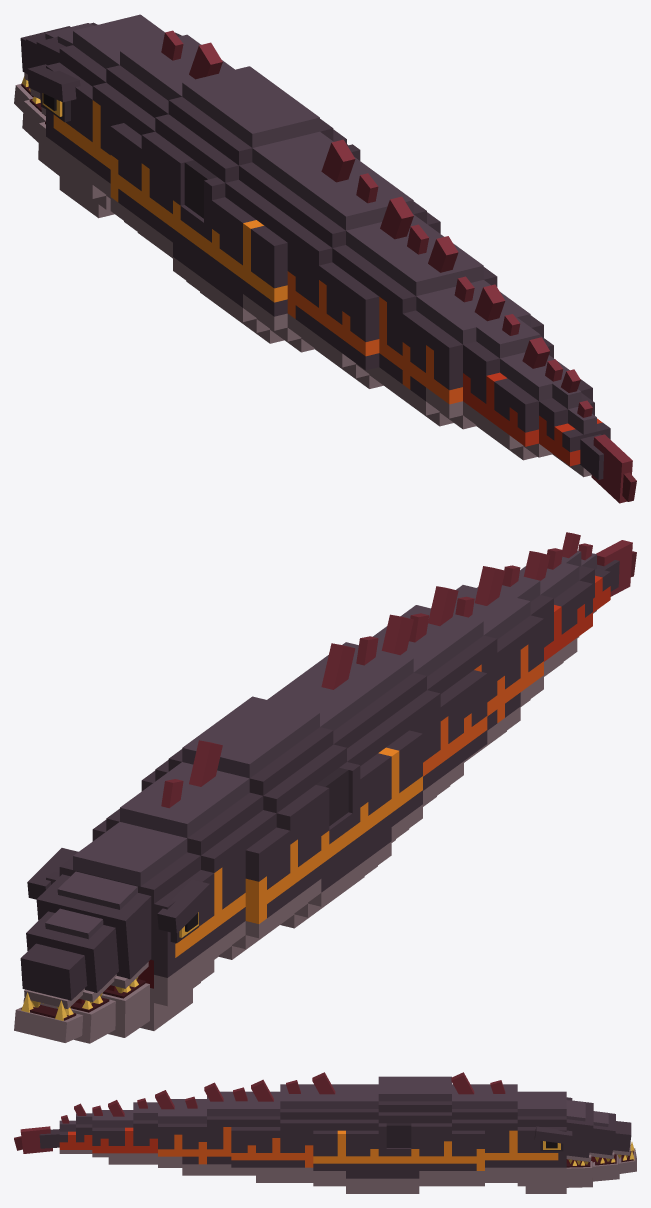
Rendered from BrimstoneEel.obj.
The picture shows the model from 3 angles, top to bottom: view 1: azimuth 30°, elevation 25°; view 2: azimuth 150°, elevation 25°; view 3: azimuth 270°, elevation 25°; orthographic projection. The views are drawn at different scales.
Parts seen in each view (by area): view 1: Head, S4, S6, S7, S5, S3, S2, S10, S1, S12, S8, S9 (+8 smaller); view 2: Head, S4, S2, S3, S1, S6, S5, S7, Jaw, S8, S9, S12 (+8 smaller); view 3: Head, S4, S3, S5, S2, S6, S7, S1, S8, S10, S9, S11 (+8 smaller).
Boxes of the visible parts, x1,y1,x2,y2 form: Head: (20, 14, 181, 218); S4: (173, 89, 360, 320); S6: (243, 139, 381, 352); S7: (287, 173, 440, 371); S5: (212, 131, 333, 343); S3: (141, 66, 280, 258); S2: (110, 42, 234, 254); S10: (379, 236, 497, 408); S1: (92, 30, 200, 198); S12: (426, 284, 543, 429); S8: (319, 196, 436, 388); S9: (342, 224, 459, 391); Head: (20, 822, 214, 1030); S4: (214, 696, 360, 928); S2: (151, 740, 290, 959); S3: (141, 725, 321, 936); S1: (92, 779, 245, 959); S6: (284, 643, 422, 842); S5: (267, 687, 391, 899); S7: (315, 636, 440, 805); Jaw: (14, 979, 149, 1043); S8: (377, 614, 463, 806); S9: (373, 613, 487, 761); S12: (455, 566, 543, 706); Head: (517, 1091, 631, 1193); S4: (378, 1076, 419, 1193); S3: (419, 1076, 451, 1186); S5: (346, 1084, 378, 1193); S2: (451, 1072, 484, 1186); S6: (312, 1072, 345, 1186); S7: (280, 1080, 313, 1182); S1: (485, 1080, 517, 1182); S8: (251, 1079, 280, 1182); S10: (204, 1082, 231, 1175); S9: (231, 1087, 255, 1175); S11: (182, 1096, 206, 1175).
Bounding box in the file's own units: 4.95 × 6.56 × 34.29.
1 material, 1 textured.
